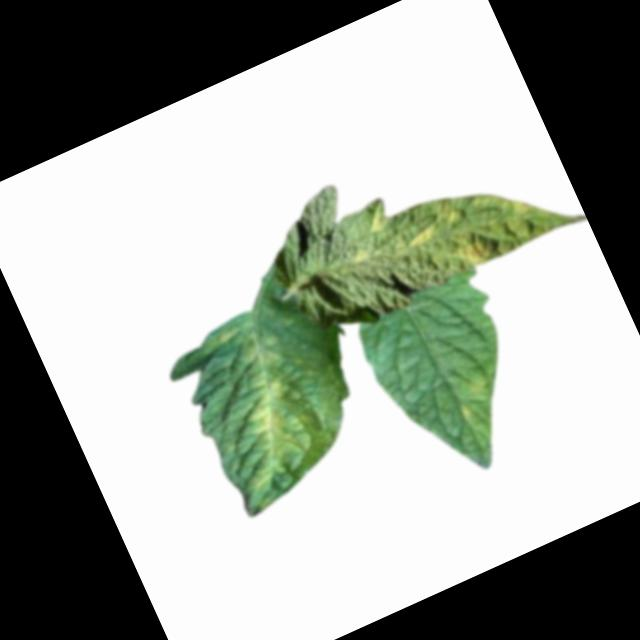Leaf_Mold: (188, 302, 339, 492), (391, 153, 569, 291), (447, 367, 505, 425)
